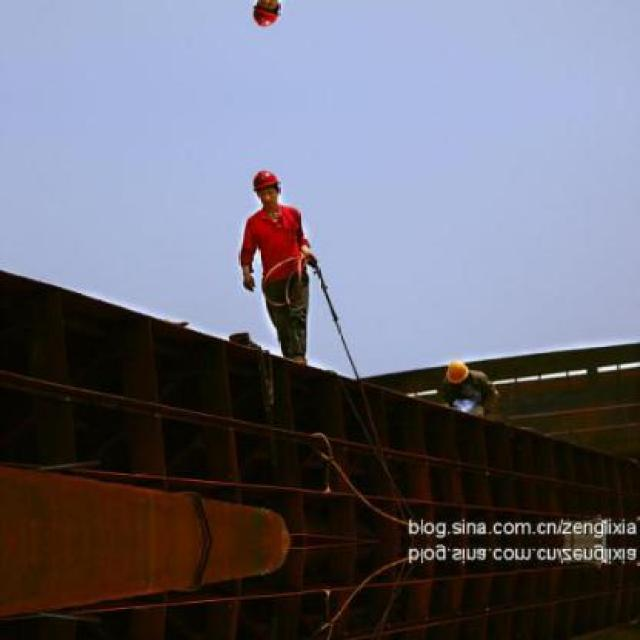helmet: (251, 165, 284, 208), (250, 0, 284, 34), (440, 357, 471, 385)
